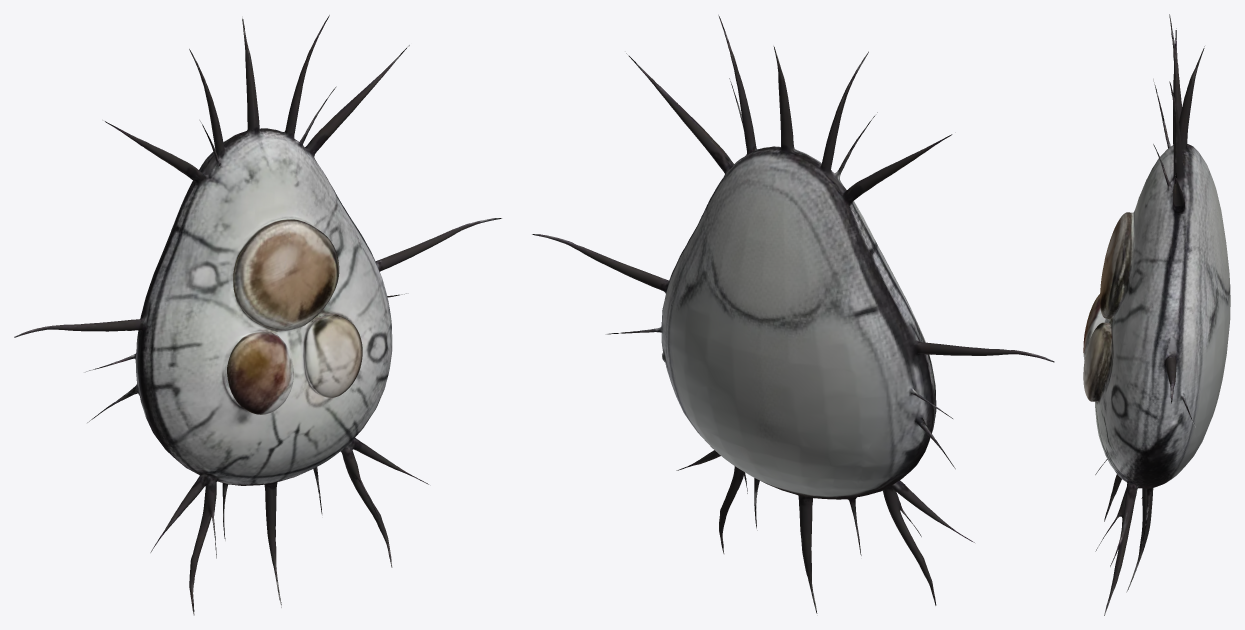
File: giardia.glb
3 views of the same model, side by side, from view 1: azimuth 30°, elevation 25°; view 2: azimuth 150°, elevation 25°; view 3: azimuth 270°, elevation 25° (orthographic). The views are drawn at different scales.
Visible parts, largest first — view 1: model; view 2: model; view 3: model.
Boxes of the visible parts, x1,y1,x2,y2 form: model: (14,15,501,615); model: (532,15,1054,615); model: (1083,14,1230,615).
Size of the model in its own units: 1.71 by 1.88 by 0.4577.
Materials: 1 (1 with a texture image).
